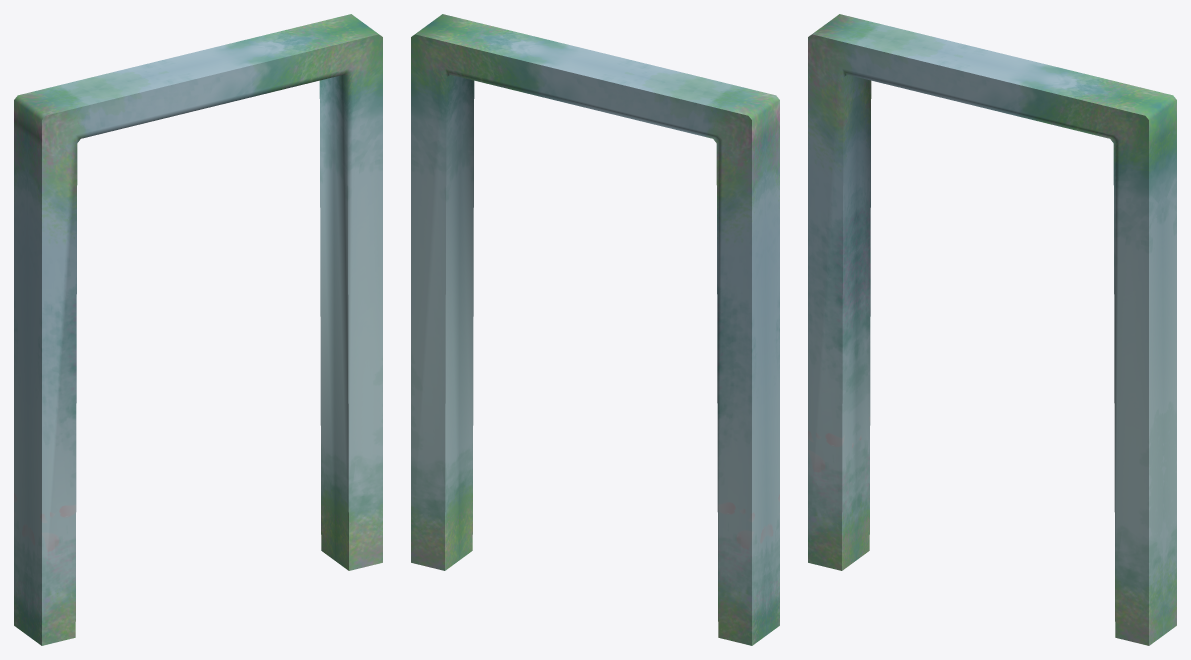
File: Portal_Doorway-White.fbx
3 views of the same model, side by side, from view 1: azimuth 30°, elevation 25°; view 2: azimuth 150°, elevation 25°; view 3: azimuth 330°, elevation 25° (orthographic).
Visible parts, largest first — view 1: Portal_Doorway-White; view 2: Portal_Doorway-White; view 3: Portal_Doorway-White.
Part boxes in pixels (x1,y1,x2,y2): Portal_Doorway-White: (14,14,382,645); Portal_Doorway-White: (411,14,779,645); Portal_Doorway-White: (808,14,1176,645).
Bounding box in the file's own units: 463 × 687 × 65.41.
Materials: 1 (1 with a texture image).
